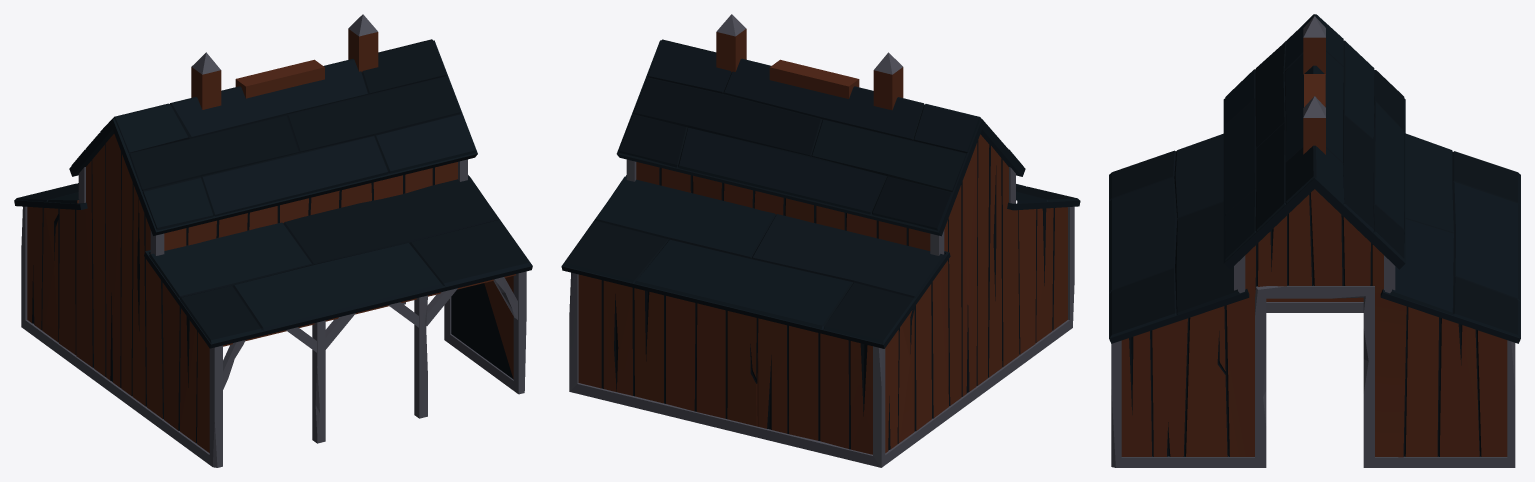
The model's file is Shed_3.fbx.
3 views of the same model, side by side, from view 1: azimuth 30°, elevation 25°; view 2: azimuth 150°, elevation 25°; view 3: azimuth 270°, elevation 25° (orthographic). The views are drawn at different scales.
Visible parts, largest first — view 1: Shed_3; view 2: Shed_3; view 3: Shed_3.
Boxes of the visible parts, x1,y1,x2,y2 form: Shed_3: (14,14,532,467); Shed_3: (561,14,1080,467); Shed_3: (1109,14,1520,467).
Bounding box in the file's own units: 247 × 238 × 262.
